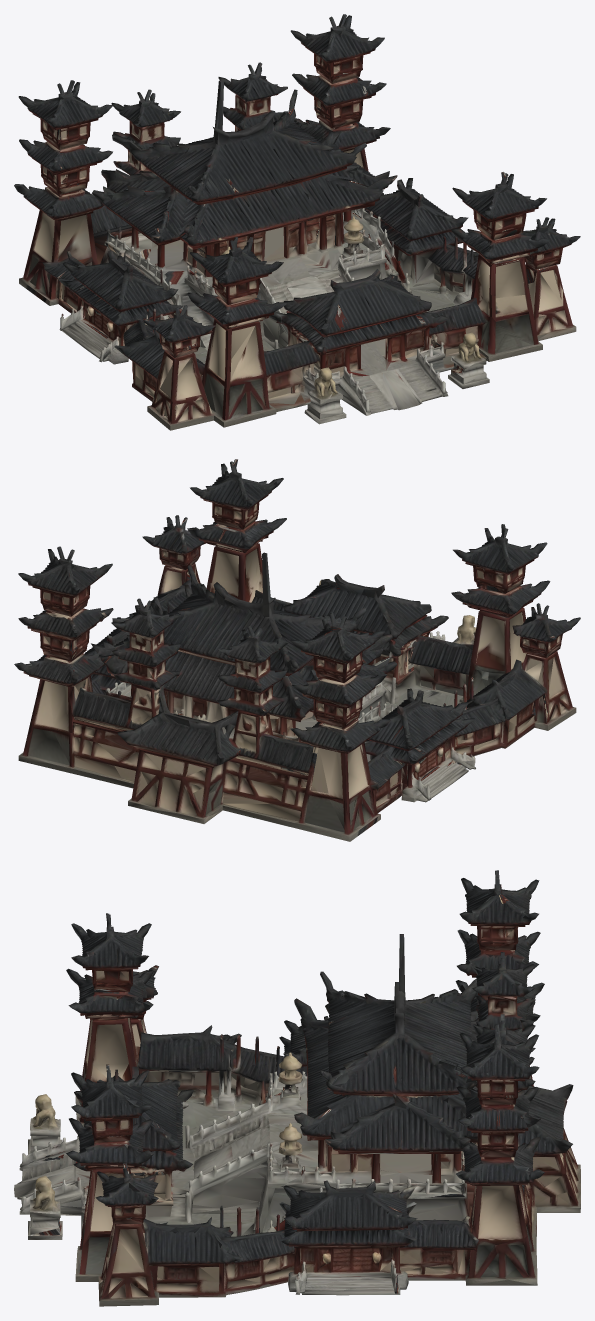
Rendered from guanfu_lod1.glb.
3 renders of one model, top to bottom at view 1: azimuth 30°, elevation 25°; view 2: azimuth 150°, elevation 25°; view 3: azimuth 270°, elevation 25°, orthographic. The views are drawn at different scales.
Parts seen in each view (by area): view 1: Mesh_0; view 2: Mesh_0; view 3: Mesh_0.
Boxes of the visible parts, <box> form: Mesh_0: <box>14,14,580,430</box>; Mesh_0: <box>14,459,580,841</box>; Mesh_0: <box>14,870,580,1306</box>.
Size of the model in its own units: 1.87 by 0.9058 by 1.9.
1 material, 1 textured.
